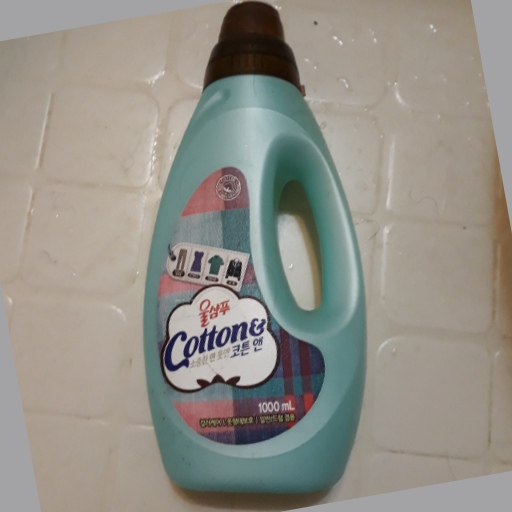Plastic_1: (142, 2, 367, 498)
